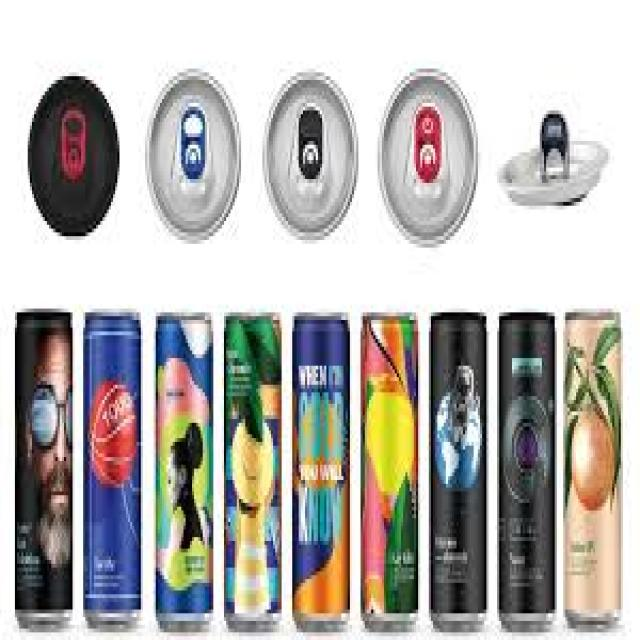Cans: (147, 305, 220, 640), (217, 301, 286, 640), (77, 309, 147, 636), (559, 305, 629, 632), (356, 301, 425, 632), (286, 309, 354, 636), (495, 305, 563, 632), (11, 308, 79, 632), (424, 308, 490, 632)
